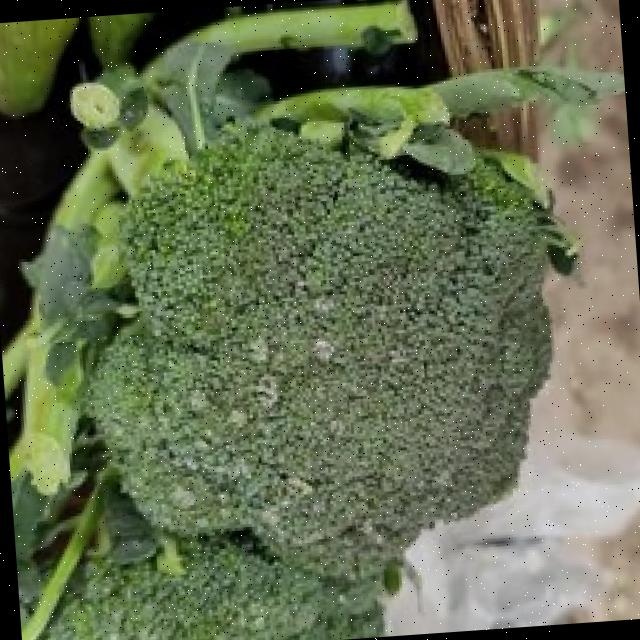Broccoli: (87, 124, 546, 561), (87, 126, 547, 558), (41, 539, 374, 640), (43, 539, 373, 640)
